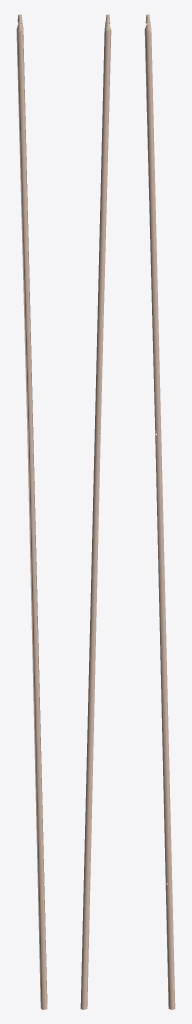
File: Tige balancier_Laiton.obj
3 renders of one model, left to right at view 1: azimuth 30°, elevation 25°; view 2: azimuth 210°, elevation 25°; view 3: azimuth 330°, elevation 25°, orthographic.
Parts seen in each view (by area): view 1: Face_2; view 2: Face_2; view 3: Face_2.
Boxes of the visible parts, <box> form: Face_2: <box>16,29,47,1009</box>; Face_2: <box>80,30,111,1009</box>; Face_2: <box>144,30,175,1009</box>.
Size of the model in its own units: 0.0188 by 0.5999 by 0.004.
